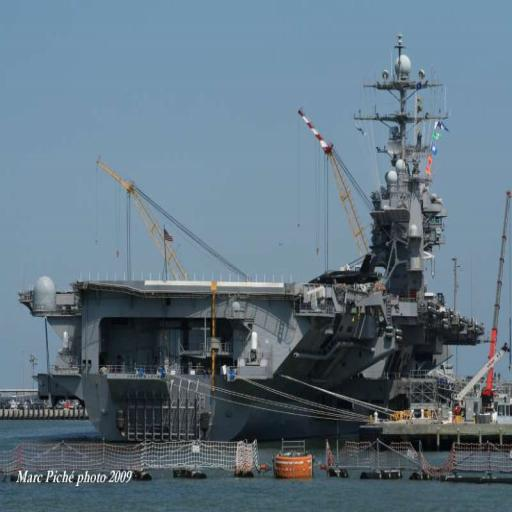Portanaves: (19, 33, 485, 451)
